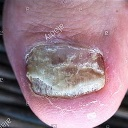Nail Fungal Infection: (24, 48, 104, 99)
